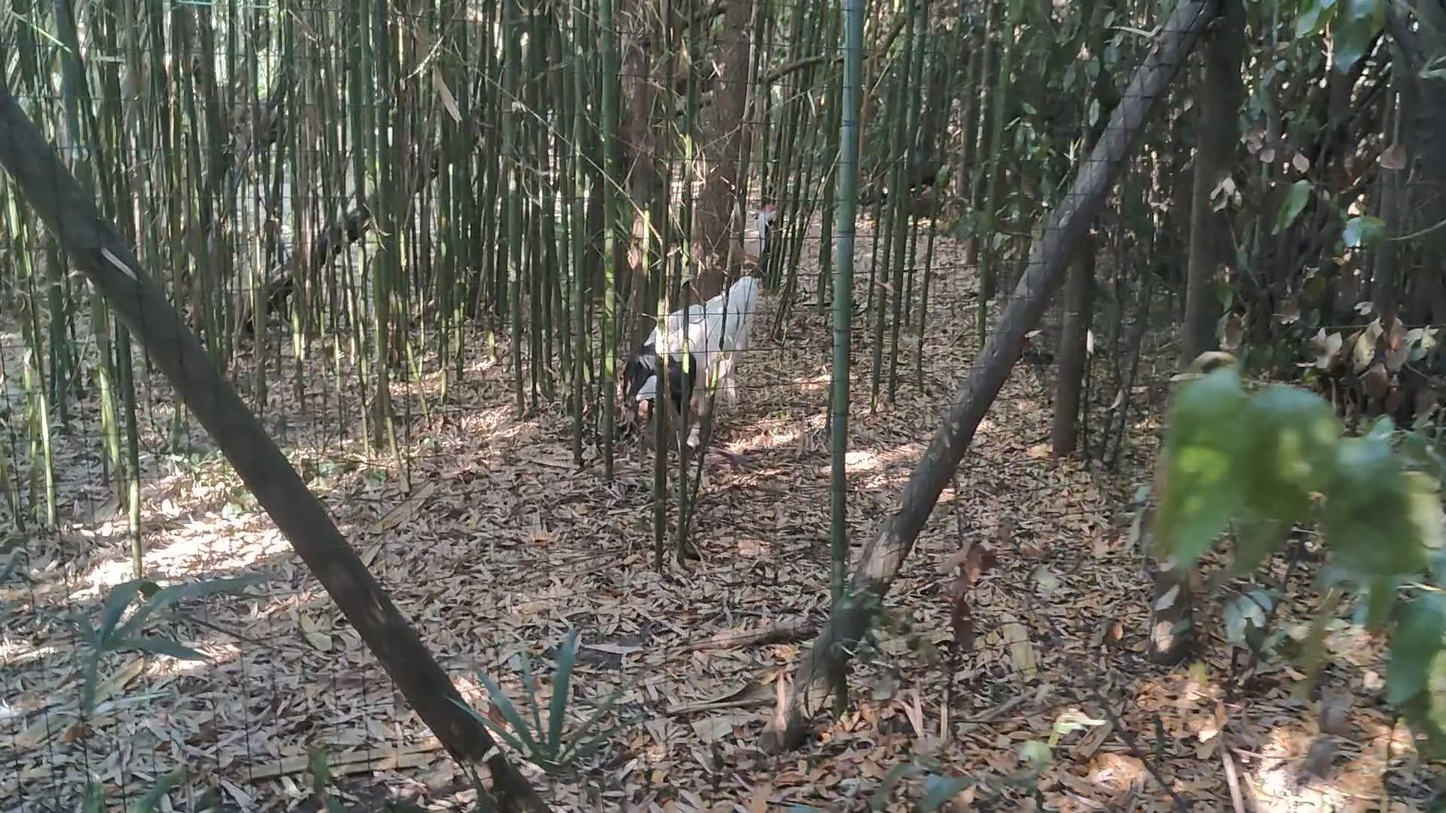apple: (623, 204, 779, 468)
